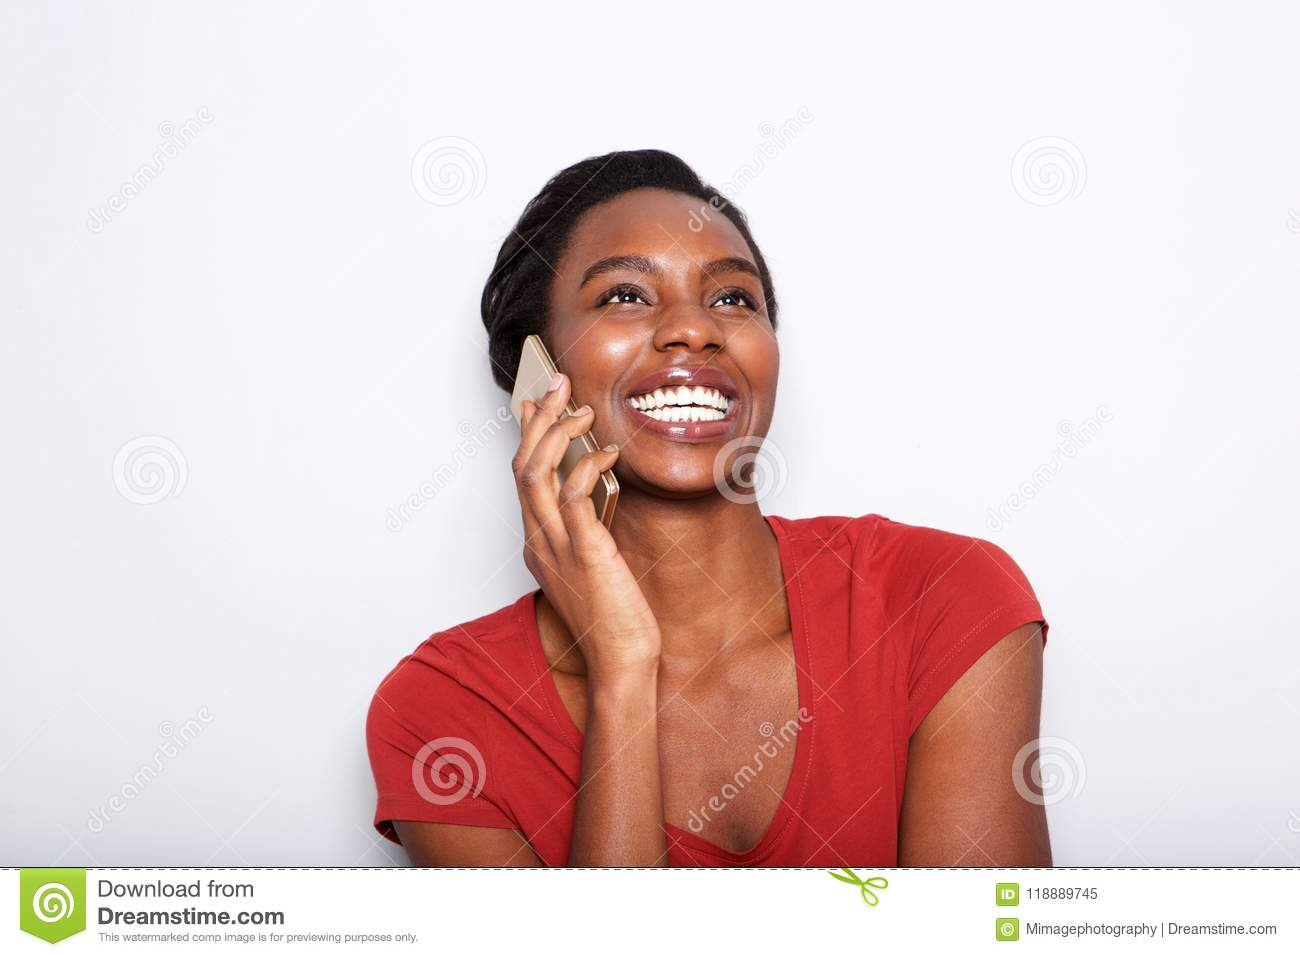phone: (511, 331, 627, 541)
talk: (504, 237, 781, 711)
